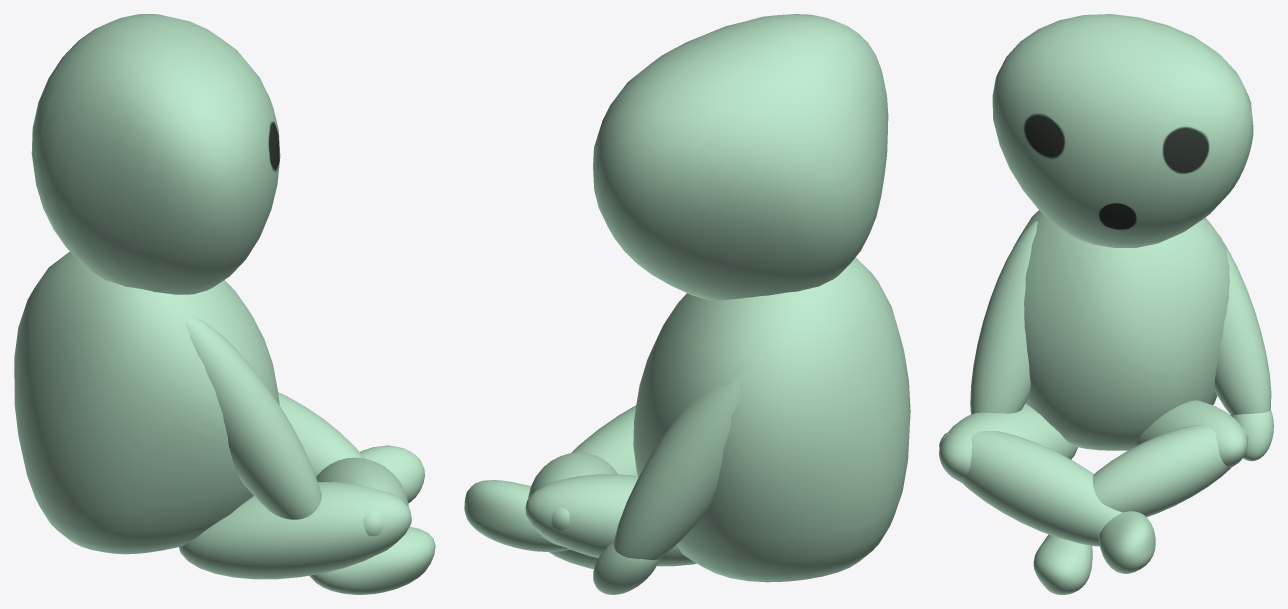
The model's file is new_kodama_05.glb.
3 views of the same model, side by side, from view 1: azimuth 30°, elevation 25°; view 2: azimuth 150°, elevation 25°; view 3: azimuth 270°, elevation 25° (orthographic). The views are drawn at different scales.
Visible parts, largest first — view 1: Sphere.029, Sphere.030, Sphere.033, Sphere.035, Sphere.056, Sphere.034, Sphere.031, Sphere.055; view 2: Sphere.029, Sphere.030, Sphere.036, Sphere.032, Sphere.055, Sphere.031, Sphere.034, Sphere.066; view 3: Sphere.029, Sphere.030, Sphere.031, Sphere.034, Sphere.035, Sphere.036, Sphere.033, Sphere.032, Sphere.055, Sphere.056, Sphere.066.
Part boxes in pixels (x1,y1,x2,y2): Sphere.029: [31, 14, 280, 294]; Sphere.030: [14, 251, 279, 554]; Sphere.033: [179, 481, 411, 579]; Sphere.035: [185, 316, 321, 519]; Sphere.056: [309, 527, 435, 594]; Sphere.034: [278, 392, 364, 476]; Sphere.031: [316, 457, 408, 554]; Sphere.055: [360, 445, 424, 503]; Sphere.029: [593, 14, 888, 300]; Sphere.030: [633, 257, 910, 582]; Sphere.036: [613, 355, 763, 559]; Sphere.032: [525, 474, 696, 566]; Sphere.055: [464, 480, 569, 551]; Sphere.031: [571, 405, 637, 475]; Sphere.034: [528, 452, 617, 546]; Sphere.066: [593, 541, 659, 594]; Sphere.029: [992, 14, 1253, 247]; Sphere.030: [1013, 210, 1229, 450]; Sphere.031: [939, 430, 1122, 546]; Sphere.034: [1093, 425, 1248, 517]; Sphere.035: [970, 221, 1037, 414]; Sphere.036: [1213, 227, 1271, 414]; Sphere.033: [939, 403, 1077, 482]; Sphere.032: [1132, 400, 1247, 467]; Sphere.055: [1098, 511, 1155, 573]; Sphere.056: [1033, 534, 1092, 594]; Sphere.066: [1231, 409, 1273, 461].
Size of the model in its own units: 3.98 by 5.54 by 3.48.
2 materials, 2 textured.
